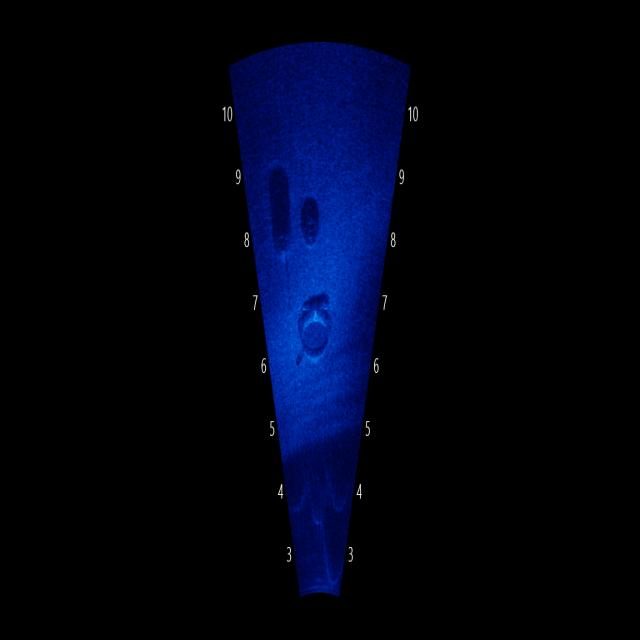circle: (295, 307, 337, 364)
